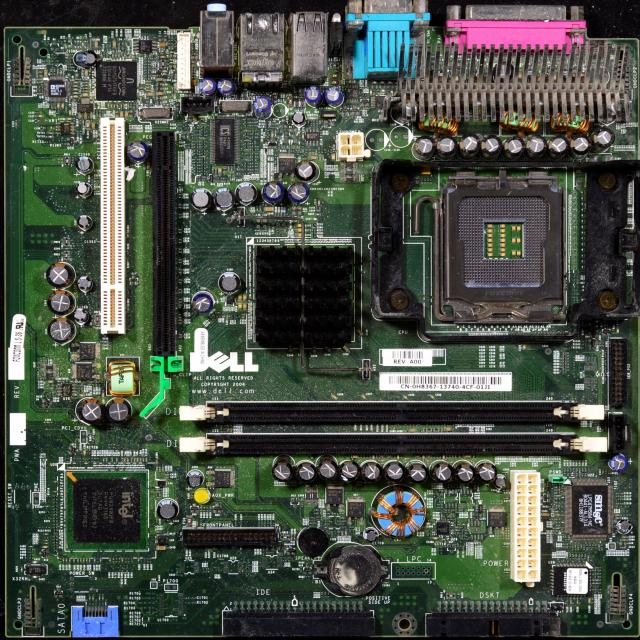Capacitor Jumper: (43, 259, 75, 288), (46, 316, 74, 342), (48, 290, 75, 316), (78, 396, 104, 423), (105, 401, 134, 422), (128, 137, 150, 163), (592, 126, 620, 146), (190, 186, 213, 210), (434, 135, 460, 156), (317, 459, 339, 482), (549, 133, 571, 156), (269, 460, 294, 480), (156, 500, 181, 520), (260, 182, 285, 202), (526, 134, 548, 156), (570, 132, 591, 155), (474, 459, 494, 483), (453, 462, 477, 482), (238, 180, 258, 204), (213, 187, 233, 211), (191, 292, 214, 312), (219, 273, 240, 294), (295, 461, 317, 481), (344, 460, 363, 483), (408, 462, 428, 483), (289, 180, 308, 202), (385, 462, 405, 482), (482, 134, 502, 154), (301, 83, 320, 104), (296, 160, 315, 181), (250, 94, 272, 112), (458, 134, 480, 152), (431, 464, 450, 484), (80, 48, 99, 68), (417, 134, 436, 154), (608, 454, 629, 471), (187, 472, 206, 490), (324, 87, 343, 105), (365, 460, 382, 480), (78, 272, 94, 293), (506, 138, 524, 155), (217, 78, 235, 94), (198, 77, 214, 95), (77, 213, 93, 231), (77, 155, 92, 173), (362, 528, 381, 541), (74, 181, 90, 195), (73, 310, 89, 322), (618, 519, 632, 532), (292, 111, 306, 124), (497, 474, 507, 490), (575, 595, 580, 605), (84, 69, 90, 77), (91, 122, 97, 130), (112, 40, 117, 49), (402, 395, 410, 400), (158, 43, 166, 48), (43, 70, 48, 78), (145, 92, 155, 96), (317, 198, 321, 208), (157, 546, 166, 550), (444, 427, 452, 431), (408, 428, 416, 432), (620, 535, 628, 539), (26, 551, 34, 555), (136, 557, 140, 565), (155, 92, 163, 96), (311, 217, 319, 221), (331, 394, 337, 399), (87, 595, 92, 601), (312, 346, 316, 353), (94, 41, 98, 48), (425, 522, 432, 526), (42, 542, 49, 546), (72, 558, 76, 565), (88, 558, 92, 565), (61, 103, 65, 110), (177, 302, 183, 306), (177, 321, 183, 325), (46, 381, 54, 384), (49, 387, 55, 391), (430, 394, 434, 400), (502, 497, 510, 500), (258, 519, 261, 527), (40, 545, 48, 548), (85, 558, 88, 566), (160, 55, 166, 59), (176, 193, 184, 196), (176, 203, 184, 206), (296, 228, 302, 232), (296, 233, 302, 237), (61, 247, 69, 250), (431, 536, 438, 539), (93, 558, 96, 565), (92, 595, 95, 602), (161, 70, 168, 73), (58, 102, 61, 109), (125, 111, 128, 118), (121, 111, 124, 118), (179, 312, 184, 316), (178, 332, 183, 336), (126, 458, 130, 463), (570, 596, 572, 606), (177, 335, 183, 338), (83, 449, 86, 455), (270, 519, 272, 528), (26, 546, 35, 548), (77, 557, 80, 563), (114, 54, 117, 60), (82, 558, 85, 564), (65, 558, 68, 564), (99, 558, 102, 564), (102, 594, 104, 603), (588, 598, 591, 604), (73, 95, 79, 98), (34, 111, 40, 114), (271, 132, 274, 138), (362, 396, 366, 400), (620, 539, 628, 541), (99, 594, 101, 602), (188, 597, 196, 599), (155, 78, 163, 80), (36, 115, 44, 117), (297, 224, 301, 228), (34, 119, 37, 124), (177, 213, 182, 216), (177, 215, 182, 218), (177, 241, 182, 244), (46, 384, 53, 386), (261, 520, 263, 527), (178, 288, 182, 291), (178, 319, 182, 322), (145, 458, 148, 462), (116, 458, 118, 464), (264, 520, 266, 526), (42, 533, 48, 535), (118, 53, 120, 59), (72, 89, 78, 91), (178, 228, 182, 231), (178, 230, 182, 233), (178, 298, 183, 300), (106, 458, 108, 463), (156, 460, 158, 465), (441, 513, 443, 518), (69, 558, 71, 563), (177, 196, 182, 198), (177, 207, 182, 209), (177, 239, 182, 241), (156, 489, 160, 491), (156, 491, 160, 493), (62, 559, 64, 563), (73, 92, 77, 94), (178, 248, 182, 250), (178, 260, 182, 262), (267, 519, 268, 526), (140, 459, 141, 463)
IC: (74, 479, 141, 542), (571, 484, 608, 533), (98, 62, 138, 101), (216, 118, 234, 165), (342, 499, 368, 518), (324, 488, 344, 506), (489, 509, 509, 527), (214, 469, 230, 487), (80, 342, 95, 360), (279, 157, 295, 173), (49, 82, 65, 96), (77, 365, 91, 379), (76, 103, 92, 114), (139, 40, 152, 52), (345, 88, 359, 99), (60, 122, 71, 135), (305, 131, 319, 141), (594, 592, 599, 594)
Resistor Jumper: (342, 170, 355, 175), (212, 506, 222, 512), (342, 163, 353, 168), (342, 178, 354, 182), (190, 506, 199, 511), (268, 142, 276, 147), (124, 557, 128, 566), (447, 594, 456, 598), (26, 554, 34, 558), (304, 568, 312, 572), (361, 100, 369, 104), (567, 467, 570, 477), (281, 536, 291, 539), (64, 252, 69, 258), (90, 456, 94, 463), (146, 557, 150, 564), (192, 142, 199, 146), (570, 467, 573, 476), (350, 109, 359, 112), (228, 317, 236, 320), (96, 316, 99, 324), (209, 318, 215, 322), (95, 457, 99, 463), (584, 468, 587, 476), (480, 534, 484, 540), (594, 543, 598, 549), (574, 554, 578, 560), (568, 554, 572, 560), (571, 555, 575, 561), (114, 558, 118, 564), (96, 557, 99, 565), (216, 569, 222, 573), (187, 601, 195, 604), (372, 89, 376, 95), (200, 124, 206, 128), (65, 158, 69, 164), (65, 238, 68, 246), (581, 468, 584, 475), (588, 543, 591, 550), (27, 556, 34, 559), (593, 575, 600, 578), (144, 67, 151, 70), (377, 88, 380, 95), (342, 110, 349, 113), (230, 314, 235, 318), (245, 566, 250, 570), (330, 64, 340, 66), (48, 131, 53, 135), (312, 223, 316, 228), (92, 436, 95, 442), (118, 43, 124, 46), (156, 493, 162, 496), (52, 505, 58, 508), (52, 508, 58, 511), (52, 517, 58, 520), (52, 520, 58, 523), (52, 539, 58, 542), (600, 544, 603, 550), (52, 550, 58, 553), (112, 558, 115, 564), (118, 558, 121, 564), (127, 558, 130, 564), (126, 566, 129, 572), (202, 571, 208, 574), (144, 57, 150, 60), (84, 40, 88, 44), (592, 542, 594, 550), (586, 542, 588, 550), (146, 591, 150, 595), (54, 68, 56, 76), (312, 226, 316, 230), (207, 316, 212, 319), (88, 381, 91, 386), (95, 381, 98, 386), (121, 457, 124, 462), (78, 458, 81, 463), (433, 492, 436, 497), (53, 495, 58, 498), (52, 544, 57, 547), (456, 545, 459, 550), (567, 546, 572, 549), (581, 555, 584, 560), (202, 567, 207, 570), (595, 569, 600, 572), (138, 602, 143, 605), (145, 72, 150, 75), (38, 86, 43, 89), (387, 89, 390, 94), (471, 534, 473, 541), (27, 548, 34, 550), (92, 380, 94, 386), (98, 381, 100, 387), (174, 37, 177, 41), (554, 498, 560, 500), (52, 499, 58, 501), (52, 502, 58, 504), (52, 511, 58, 513), (44, 526, 50, 528), (474, 534, 476, 540), (566, 542, 572, 544), (52, 548, 58, 550), (108, 53, 111, 57), (126, 53, 129, 57), (102, 54, 105, 58), (150, 558, 152, 564), (140, 607, 143, 611), (156, 97, 162, 99), (156, 102, 162, 104), (201, 134, 205, 137), (200, 146, 206, 148), (192, 146, 198, 148), (311, 233, 317, 235), (89, 449, 91, 454), (94, 458, 96, 463), (565, 466, 566, 476), (557, 492, 562, 494), (206, 506, 208, 511), (204, 507, 206, 512), (200, 507, 202, 512), (53, 524, 58, 526), (122, 568, 124, 573), (147, 612, 152, 614), (145, 64, 150, 66), (312, 230, 317, 232), (46, 517, 49, 520), (50, 392, 54, 394), (50, 395, 54, 397), (168, 44, 170, 48), (82, 458, 84, 462), (73, 458, 75, 462), (208, 507, 210, 511), (564, 536, 566, 540), (148, 598, 152, 600), (145, 70, 149, 72), (145, 75, 149, 77), (146, 78, 150, 80), (38, 90, 42, 92), (201, 143, 205, 145), (174, 43, 176, 46), (80, 451, 82, 454), (576, 468, 577, 474), (109, 47, 111, 50), (555, 522, 561, 523), (54, 536, 57, 538), (202, 132, 205, 134), (171, 43, 172, 48), (47, 142, 52, 143), (312, 236, 317, 237), (168, 38, 170, 40), (145, 61, 149, 62), (202, 129, 204, 131), (46, 512, 49, 513), (54, 527, 57, 528), (478, 535, 478, 539)
